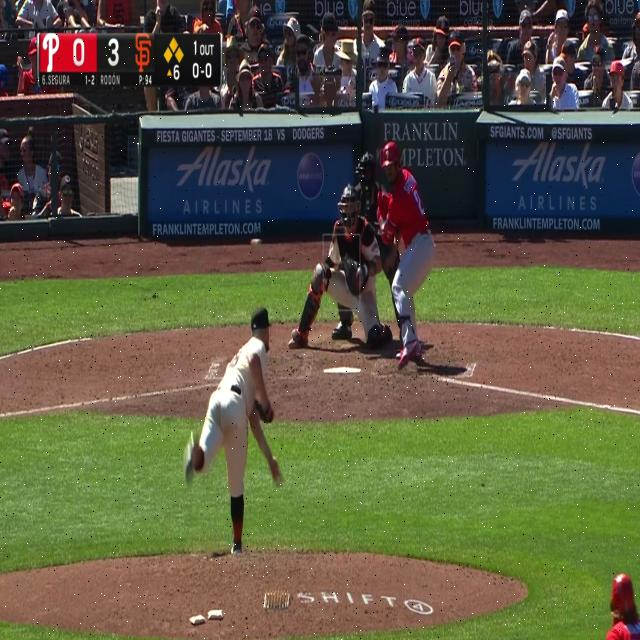baseball: (250, 238, 262, 250)
